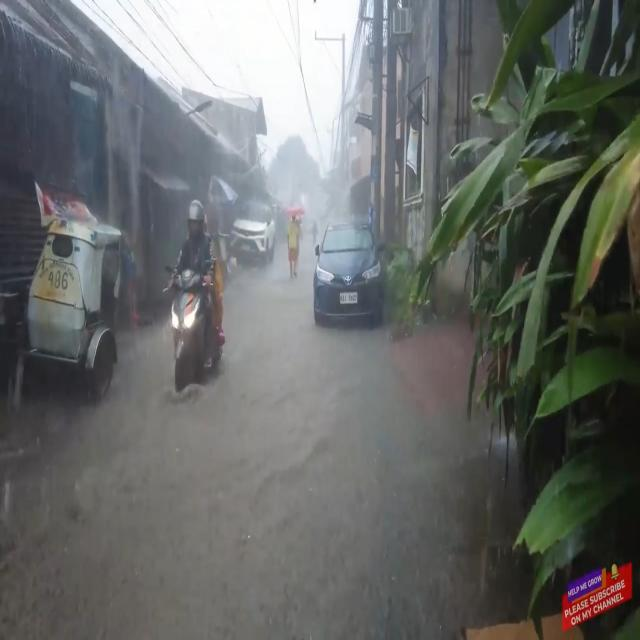half: (186, 197, 205, 240)
